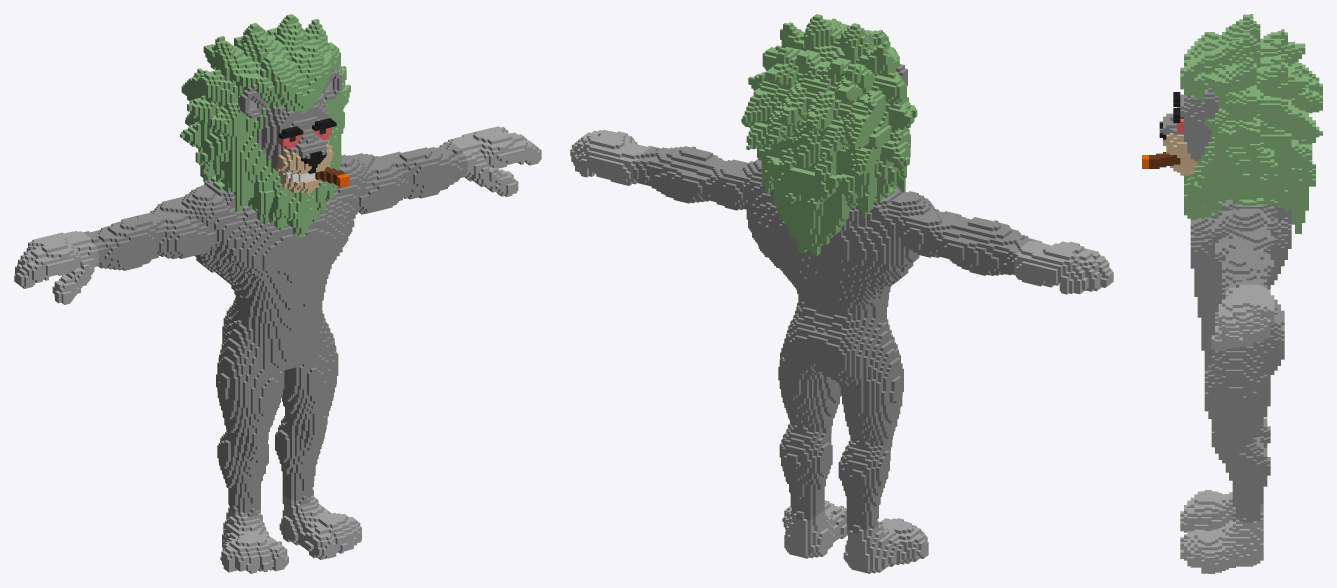
File: 940-D8aMR6sZ.glb
3 views of the same model, side by side, from view 1: azimuth 30°, elevation 25°; view 2: azimuth 150°, elevation 25°; view 3: azimuth 270°, elevation 25° (orthographic). The views are drawn at different scales.
Visible parts, largest first — view 1: cigar; view 2: cigar; view 3: cigar.
Part boxes in pixels (bbox=[...]): cigar: bbox=[14, 14, 541, 573]; cigar: bbox=[570, 14, 1113, 573]; cigar: bbox=[1142, 14, 1322, 573].
Bounding box in the file's own units: 17.2 × 16.5 × 5.2.
Materials: 4 (4 with a texture image).
